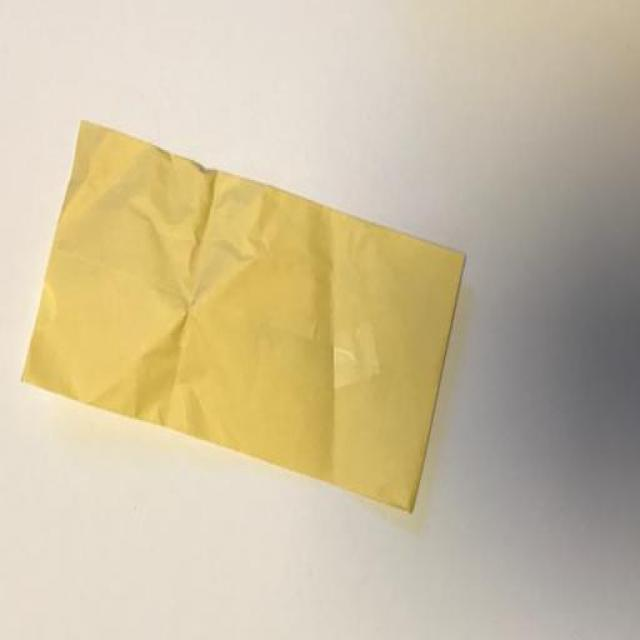paper: (13, 106, 512, 558)
